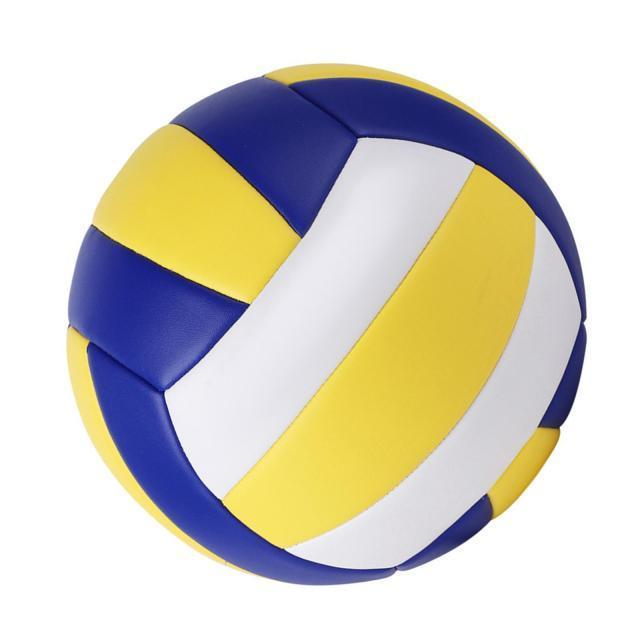volleyball: (69, 62, 588, 586)
